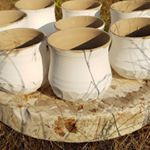cups: (44, 25, 116, 104)
